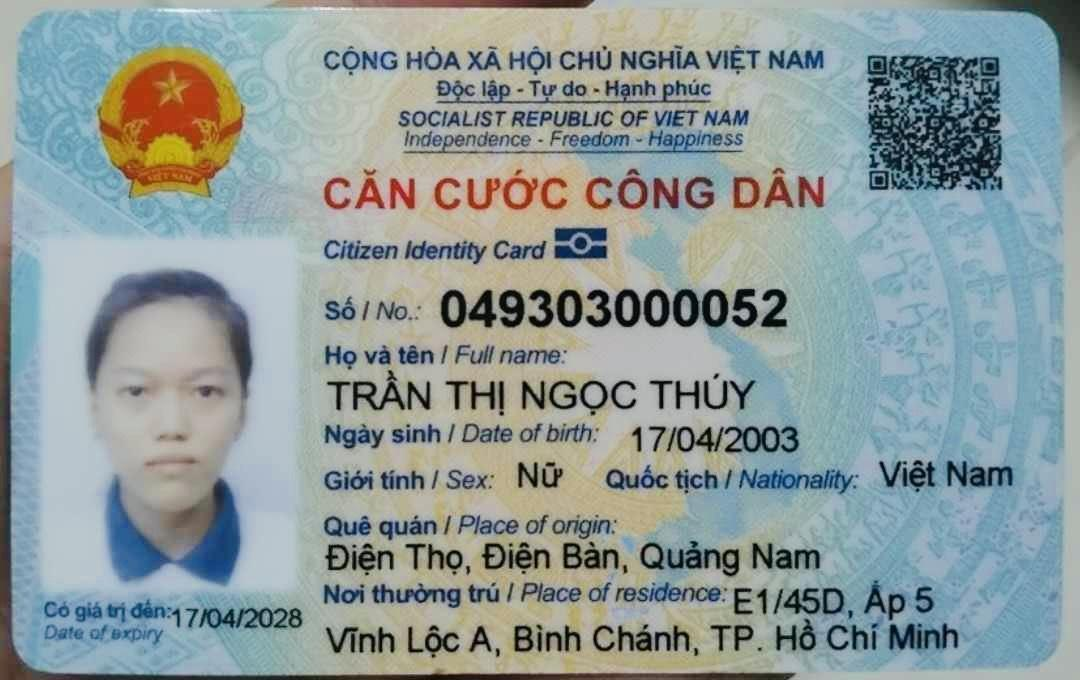ID: (436, 282, 798, 339)
birth: (626, 419, 805, 459)
name: (314, 372, 771, 419)
place: (317, 539, 831, 578)
residence: (319, 616, 981, 664), (733, 578, 955, 622)
